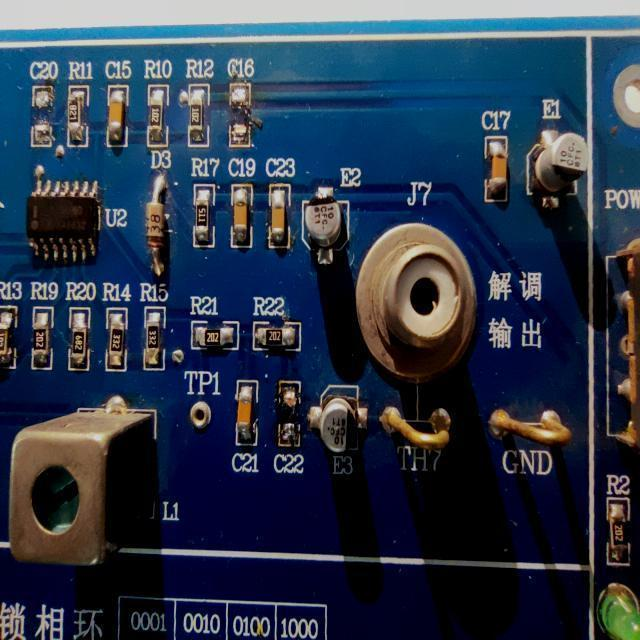Missing component: (272, 375, 306, 477), (224, 55, 258, 152), (29, 56, 60, 152)
